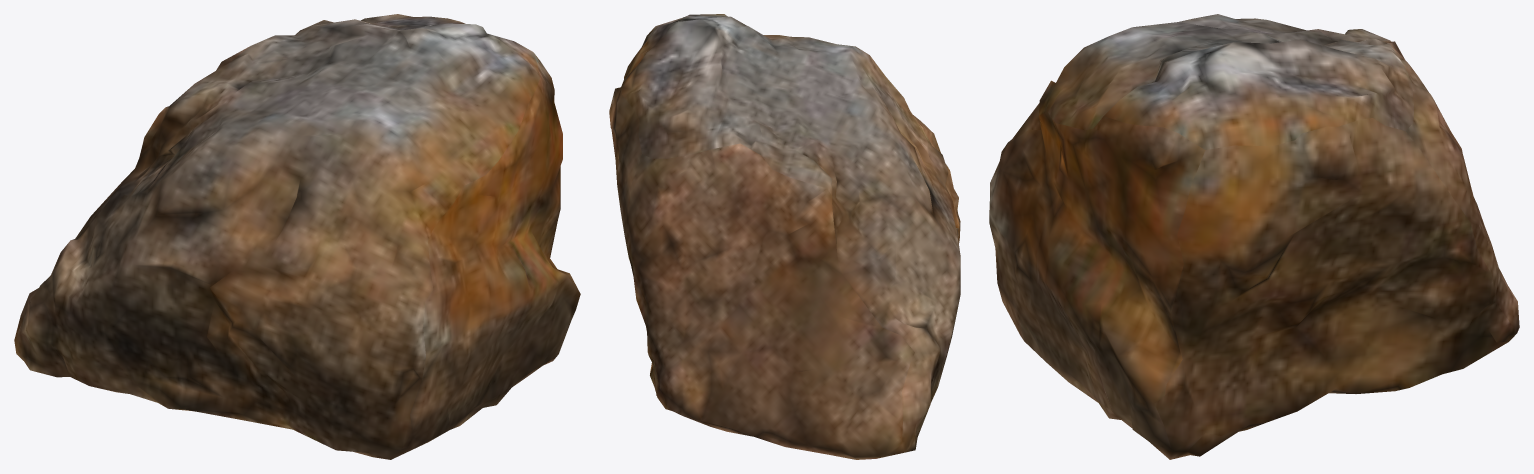
Rendered from boulder_04.glb.
3 renders of one model, left to right at view 1: azimuth 30°, elevation 25°; view 2: azimuth 150°, elevation 25°; view 3: azimuth 270°, elevation 25°, orthographic. The views are drawn at different scales.
Parts seen in each view (by area): view 1: boulder_04; view 2: boulder_04; view 3: boulder_04.
Part boxes in pixels (x1,y1,x2,y2): boulder_04: [14, 14, 580, 459]; boulder_04: [609, 14, 960, 459]; boulder_04: [989, 14, 1519, 459].
Size of the model in its own units: 2.52 by 1.89 by 2.48.
1 material, 1 textured.
